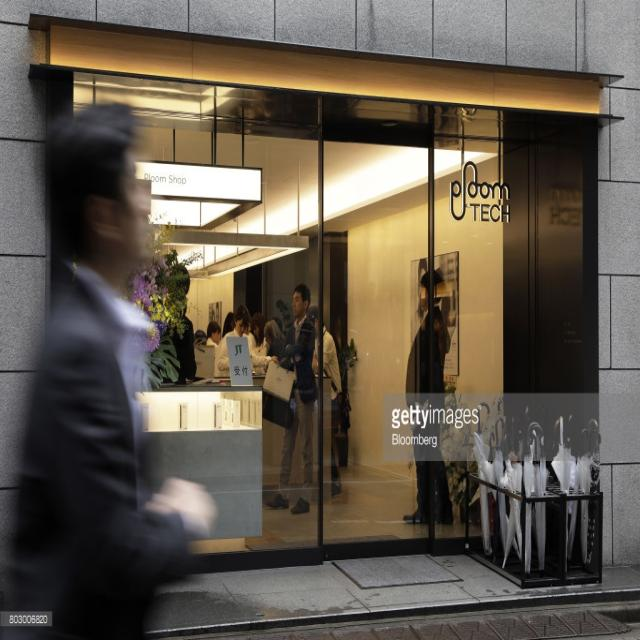body: (6, 94, 220, 639), (260, 281, 320, 515), (401, 269, 455, 528), (304, 302, 344, 498), (150, 263, 198, 393), (409, 257, 456, 376), (216, 302, 280, 376), (217, 306, 267, 350), (262, 318, 288, 362), (251, 312, 271, 350), (205, 320, 222, 357)
